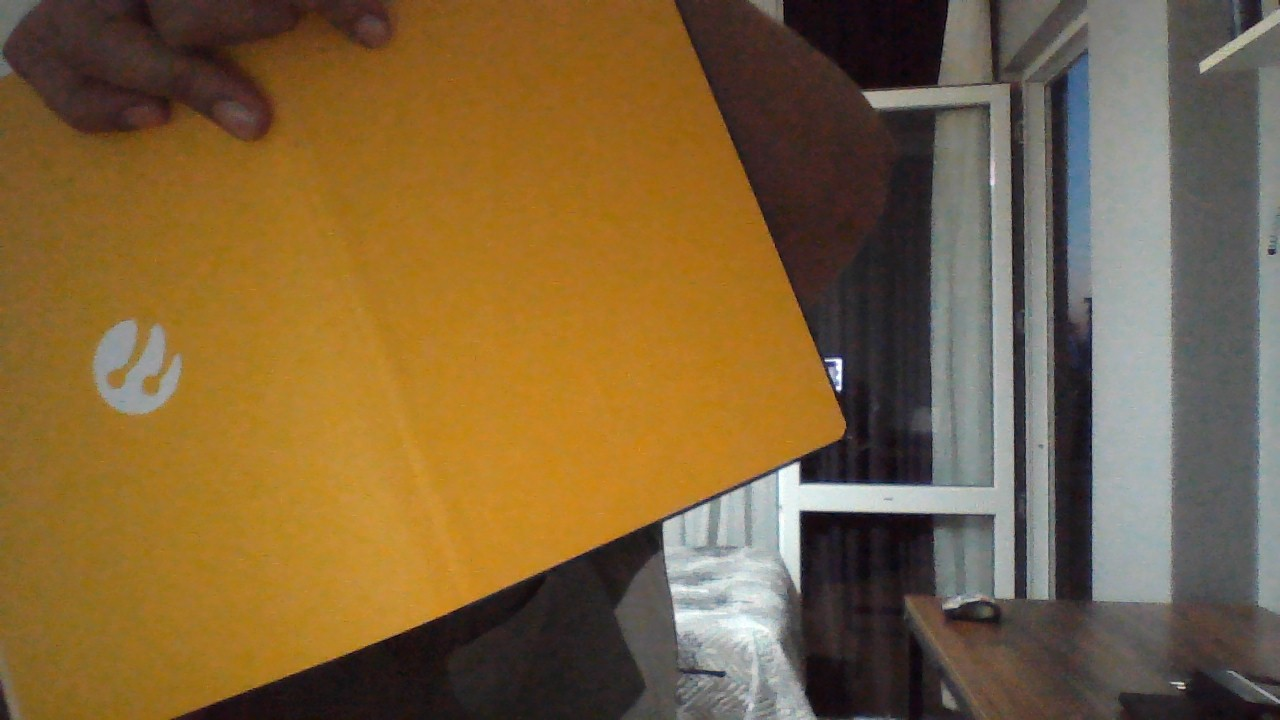turkcell: (91, 317, 184, 417)
